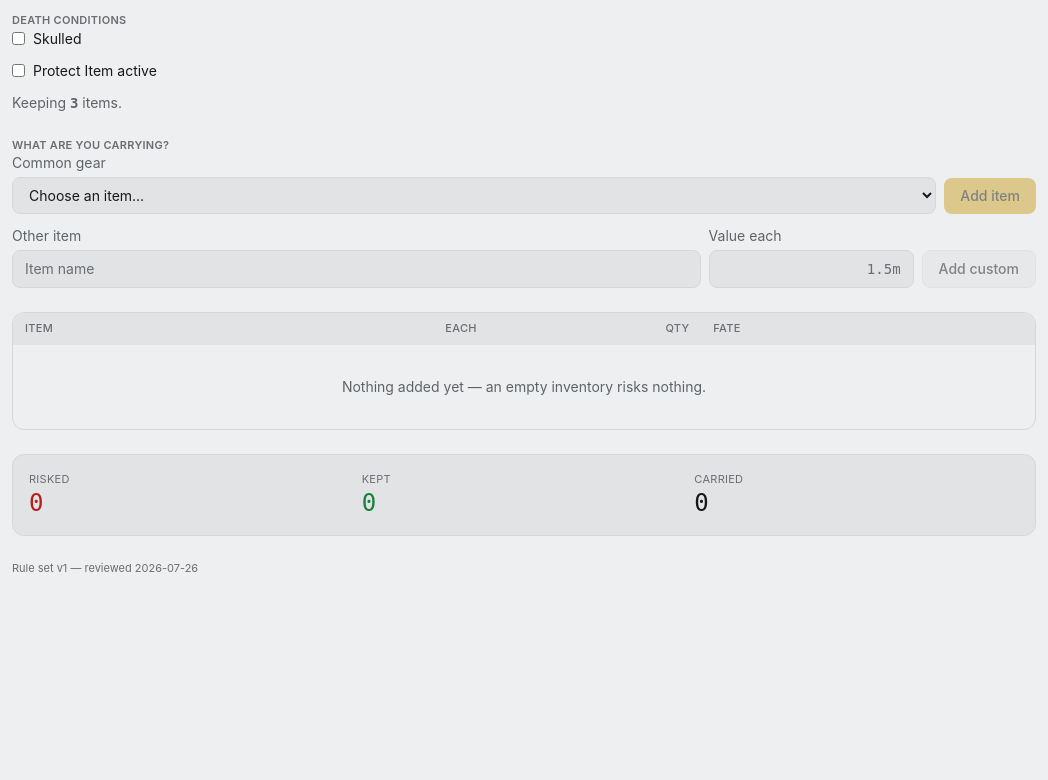
Test: DeathRiskCalculator › risks everything when skulled
Select "Twisted bow" in the dropdown labelled "Common gear" at (474, 196), box top-left (12, 177), bottom-right (936, 214)
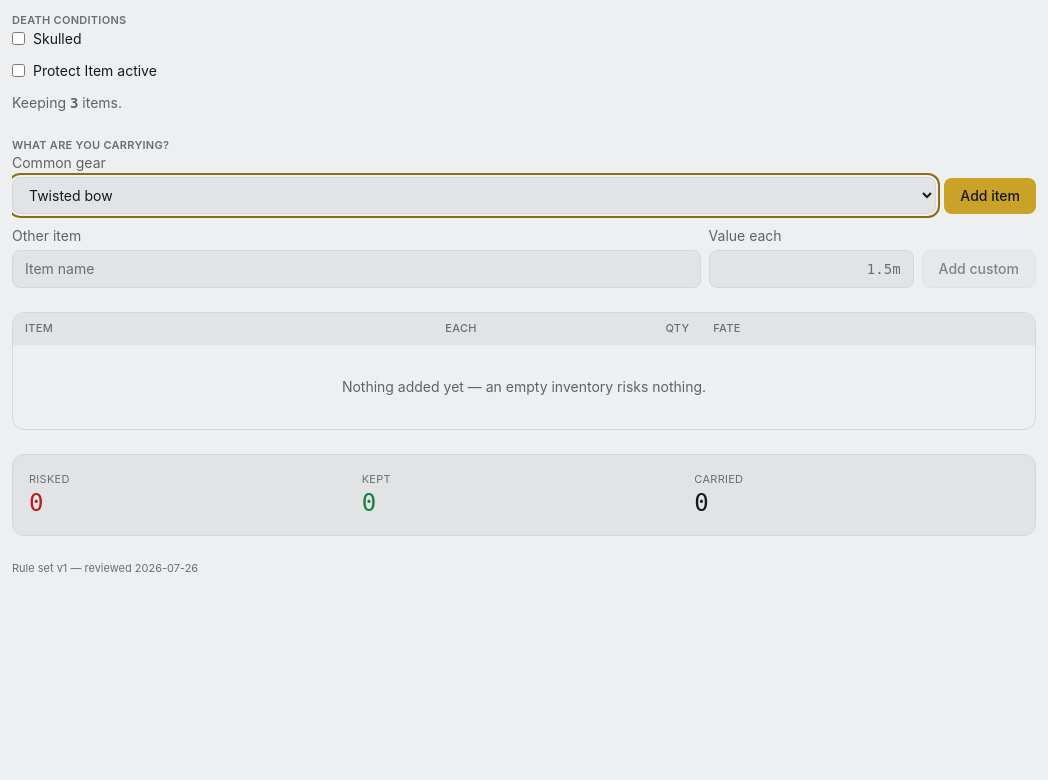
Click the button "Add item" at (990, 196), box top-left (944, 178), bottom-right (1036, 214)
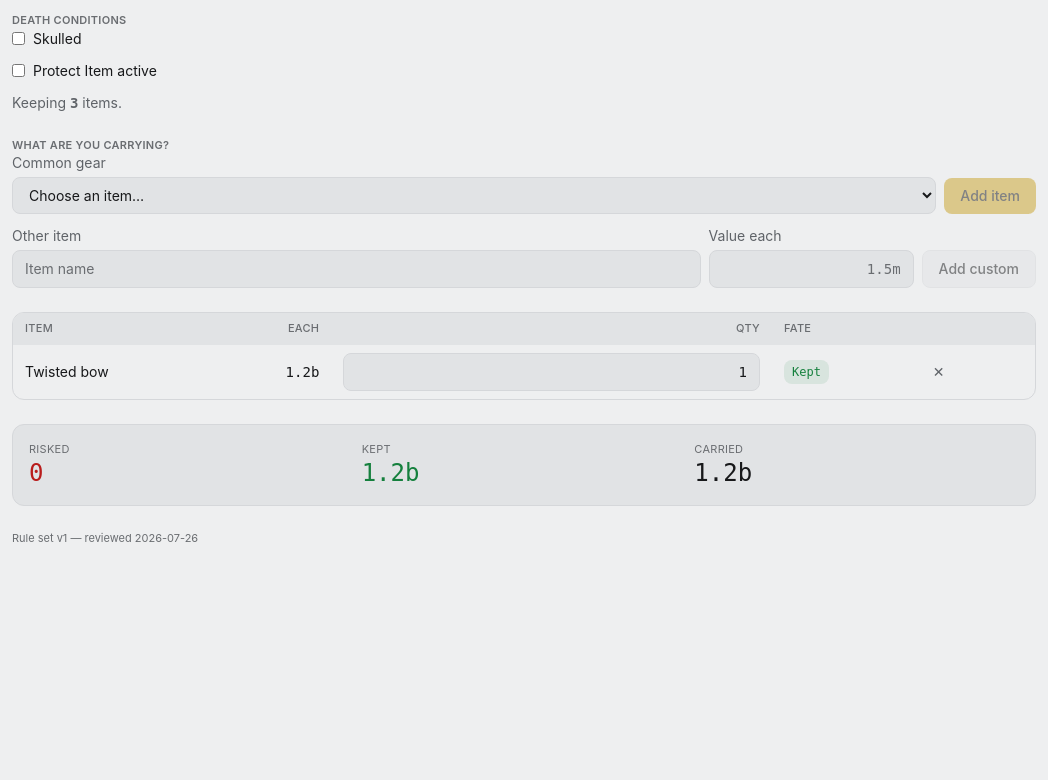
Select "Avernic defender" in the dropdown labelled "Common gear" at (474, 196), box top-left (12, 177), bottom-right (936, 214)
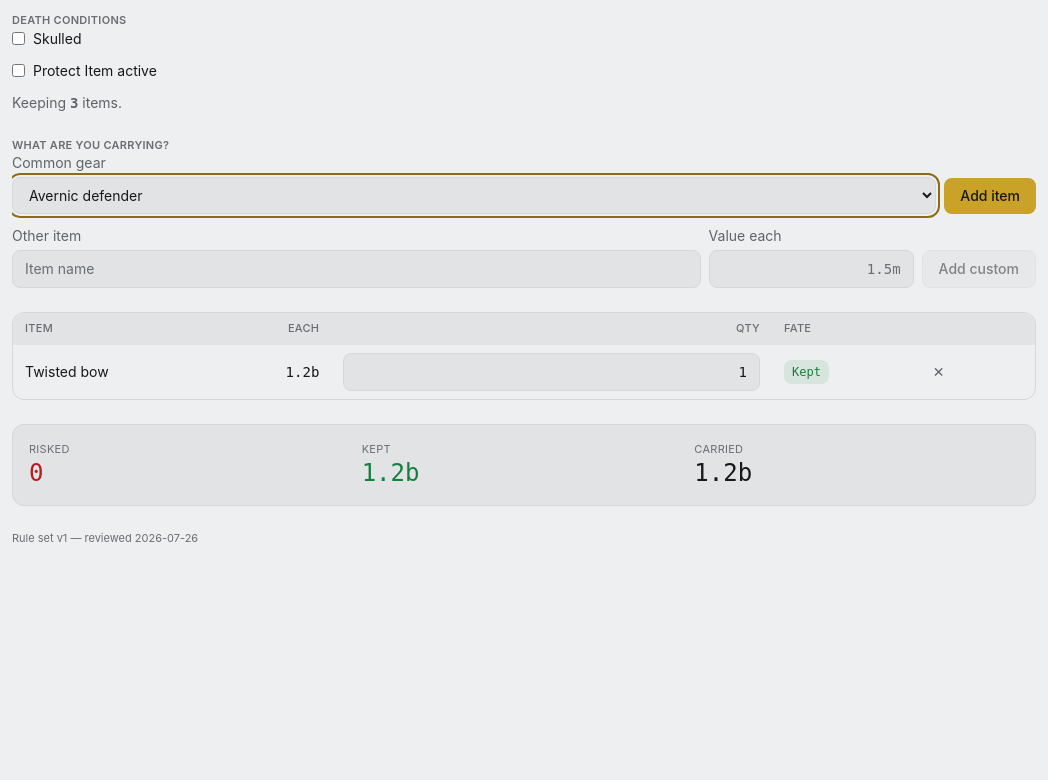
Click the button "Add item" at (990, 196), box top-left (944, 178), bottom-right (1036, 214)
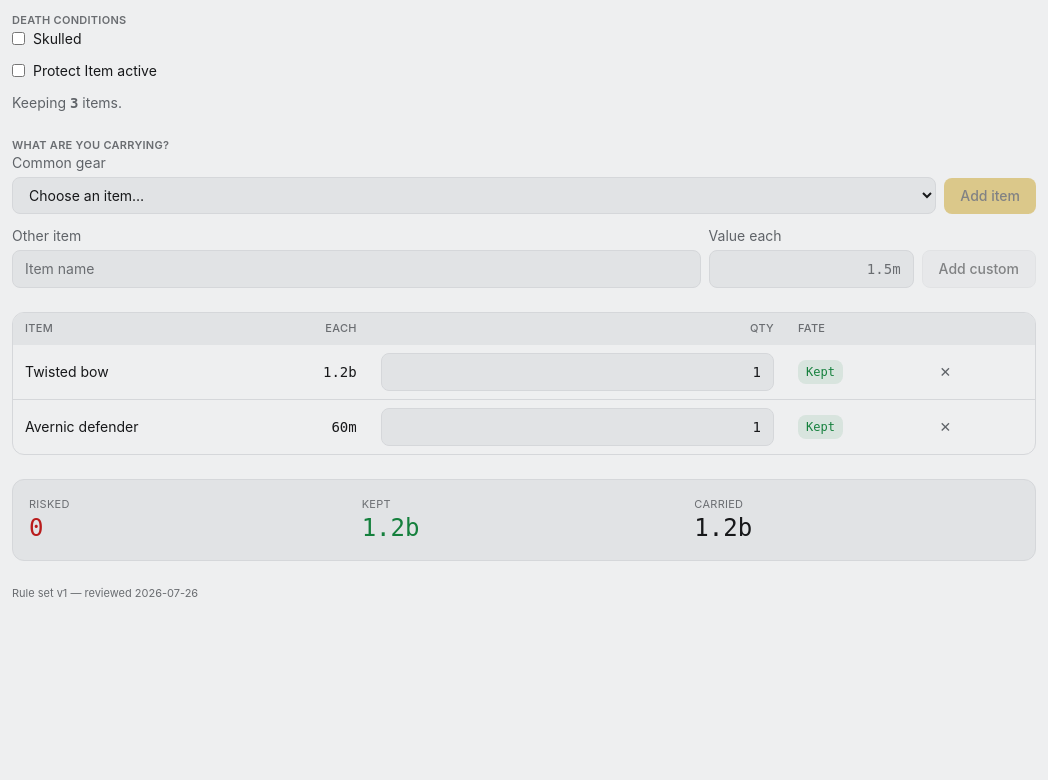
Click the checkbox labelled "Skulled" at (18, 38), box top-left (12, 32), bottom-right (25, 45)
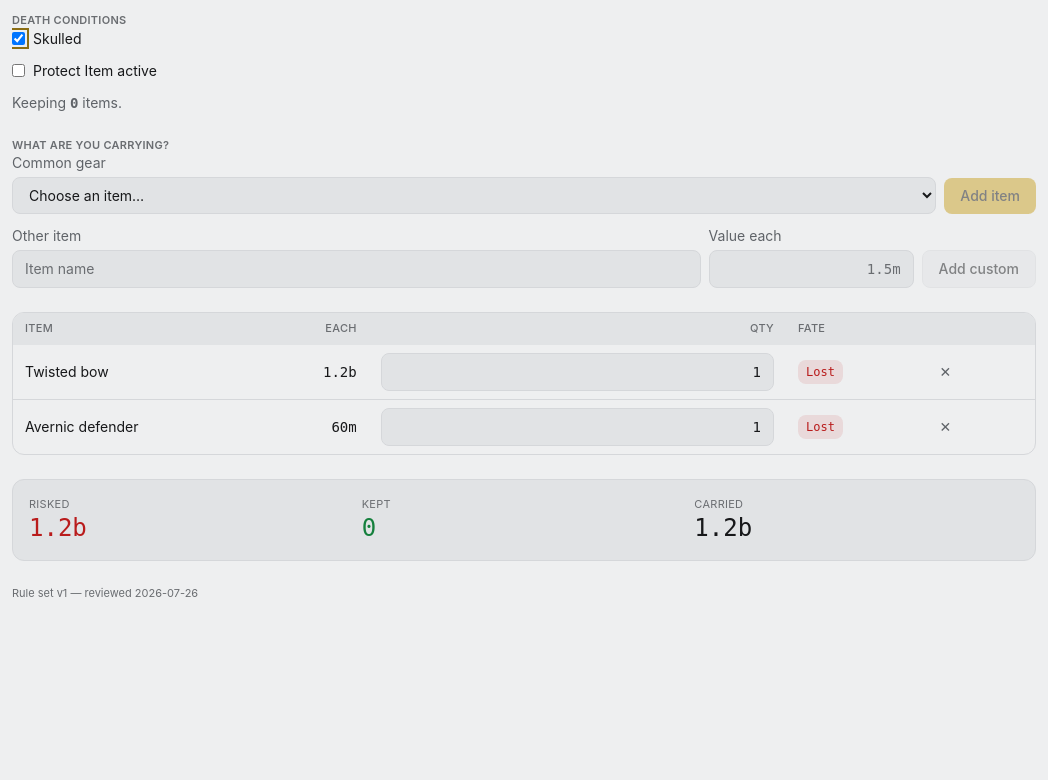
Expected: the text "Lost" is shown 2 times, top-left (806, 364), bottom-right (835, 380); top-left (806, 419), bottom-right (835, 435)
Expected: the text "Keeping 0 items." is shown, top-left (12, 94), bottom-right (122, 110)
Expected: the text "1.2b" below "Risked" is shown, top-left (29, 514), bottom-right (87, 542)
